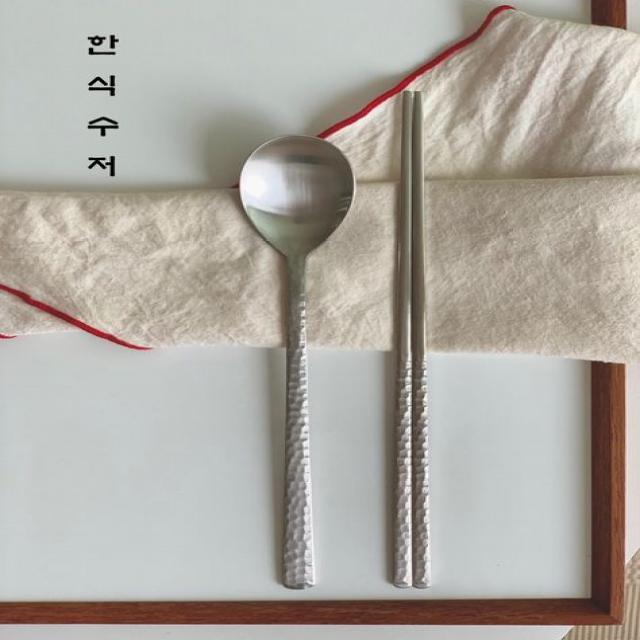spoon: (240, 120, 360, 592)
